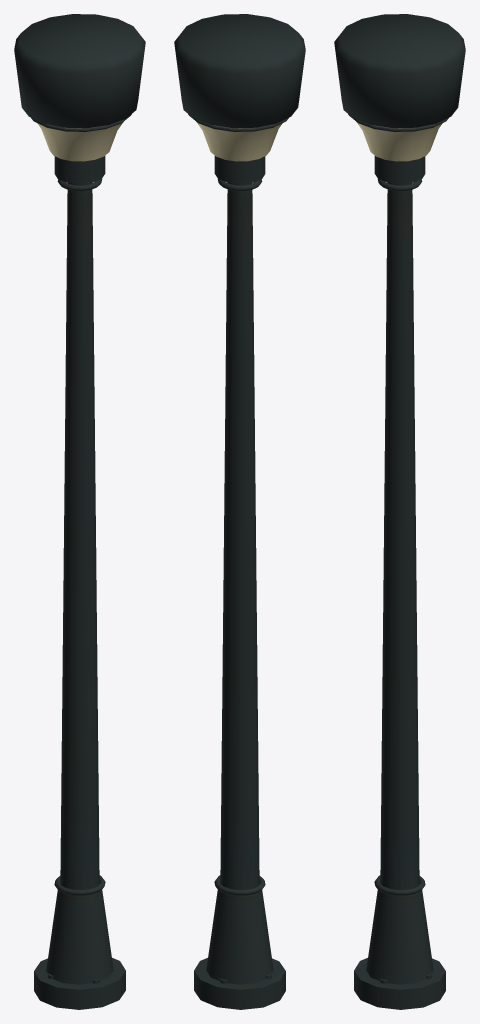
File: path-lamp-modern.glb
3 views of the same model, side by side, from view 1: azimuth 30°, elevation 25°; view 2: azimuth 150°, elevation 25°; view 3: azimuth 330°, elevation 25° (orthographic).
Visible parts, largest first — view 1: Path-lamp-modernBody; view 2: Path-lamp-modernBody; view 3: Path-lamp-modernBody.
Boxes of the visible parts, x1,y1,x2,y2 form: Path-lamp-modernBody: (14, 14, 145, 1009); Path-lamp-modernBody: (174, 14, 305, 1009); Path-lamp-modernBody: (334, 14, 465, 1009).
Size of the model in its own units: 0.5406 by 4.25 by 0.524.
1 material, 1 textured.
